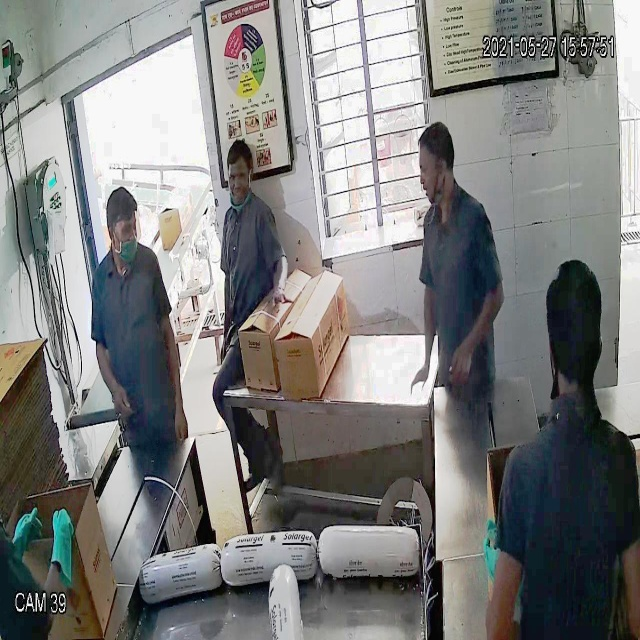Sin_gafas: (222, 163, 258, 193), (108, 215, 141, 246)
